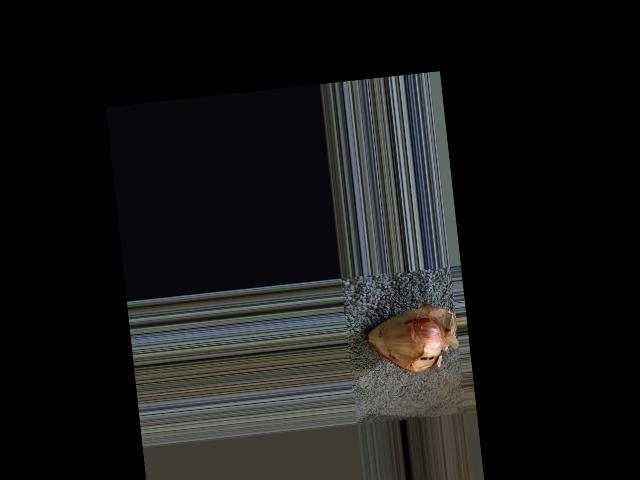onion: (363, 311, 443, 378)
